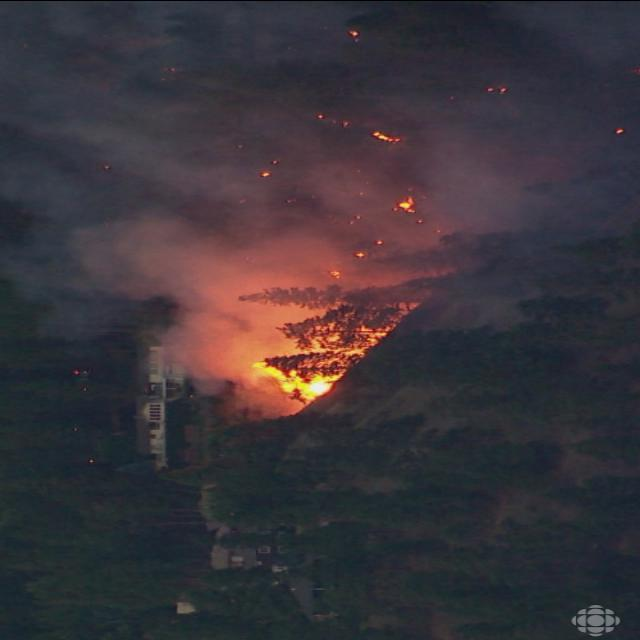Fire: (248, 322, 378, 406)
